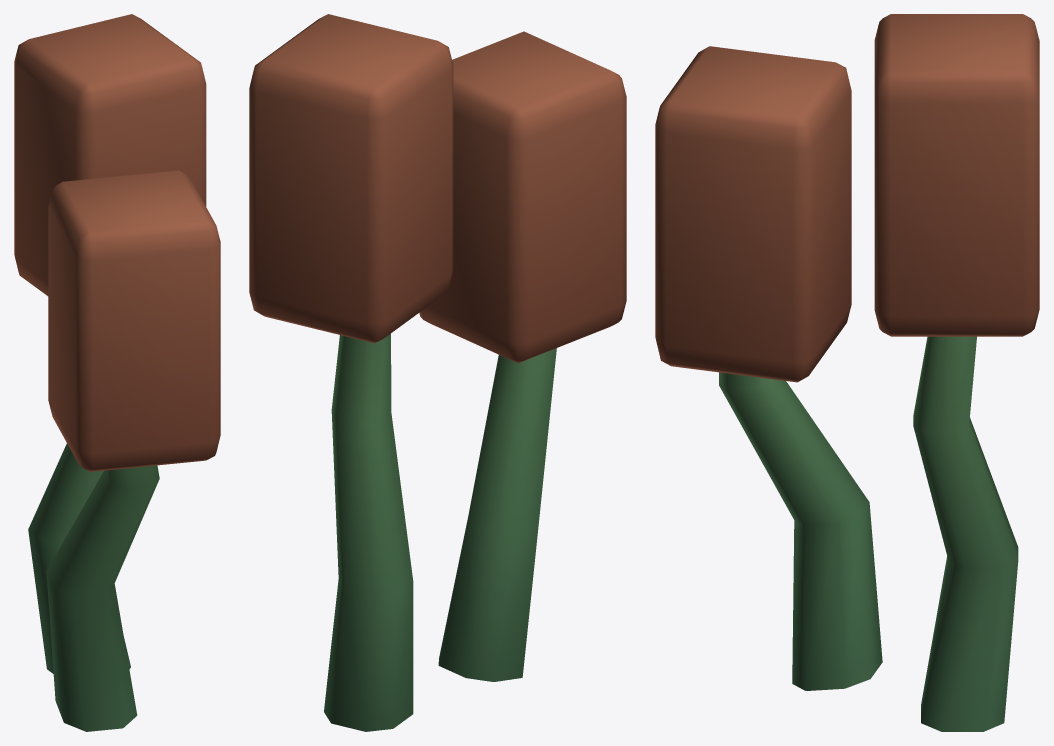
File: kamishi.glb
3 renders of one model, left to right at view 1: azimuth 30°, elevation 25°; view 2: azimuth 150°, elevation 25°; view 3: azimuth 270°, elevation 25°, orthographic. The views are drawn at different scales.
Visible parts, largest first — view 1: Node1; view 2: Node1; view 3: Node1.
Boxes of the visible parts, x1=… form: Node1: x1=14, y1=14, x2=220, y2=731; Node1: x1=249, y1=14, x2=626, y2=731; Node1: x1=655, y1=14, x2=1039, y2=731.
Size of the model in its own units: 0.1601 by 0.4514 by 0.2302.
Materials: 1 (1 with a texture image).
